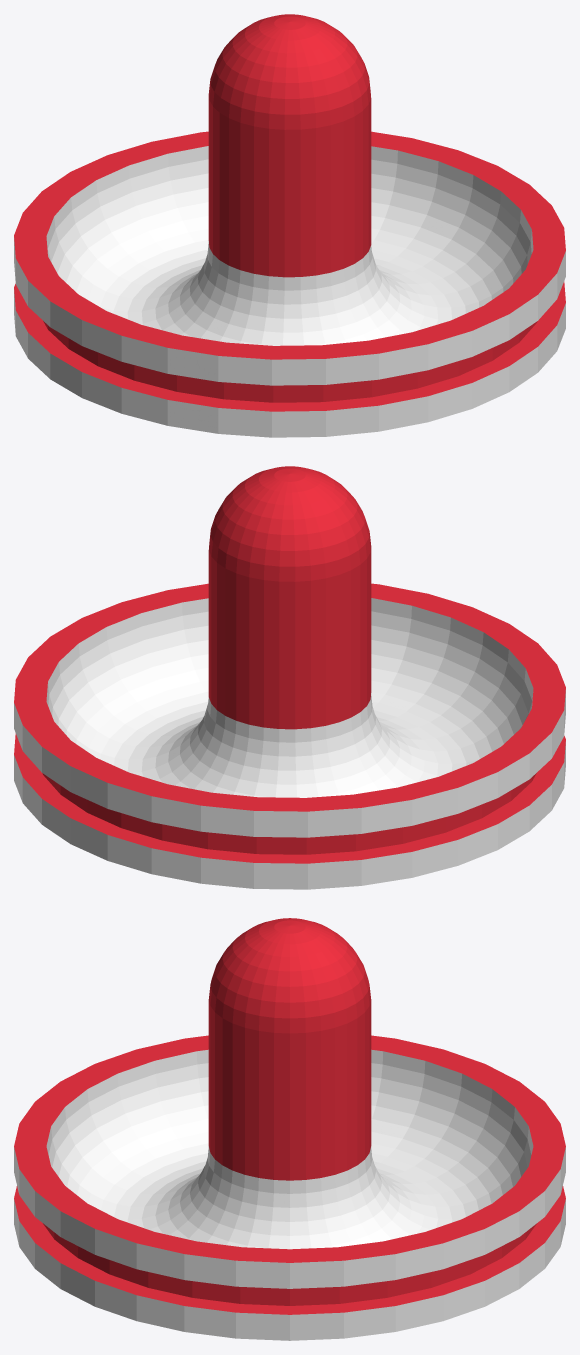
File: paddle_red.obj
The picture shows the model from 3 angles, top to bottom: view 1: azimuth 30°, elevation 25°; view 2: azimuth 150°, elevation 25°; view 3: azimuth 270°, elevation 25°; orthographic projection.
Visible parts, largest first — view 1: Sphere; view 2: Sphere; view 3: Sphere.
Boxes of the visible parts, x1,y1,x2,y2 form: Sphere: (14, 14, 565, 437); Sphere: (14, 466, 565, 889); Sphere: (14, 918, 565, 1340).
Size of the model in its own units: 6.8 by 4.06 by 6.8.
1 material, 1 textured.
